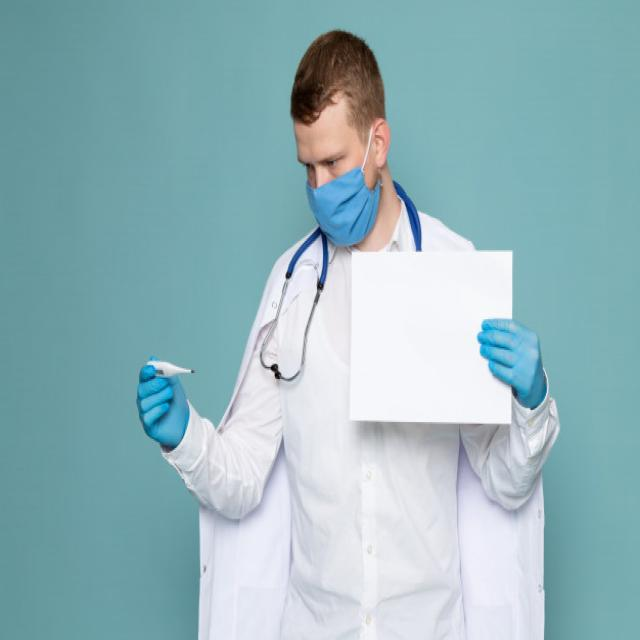Gloves: (472, 310, 556, 411), (127, 351, 194, 456)
